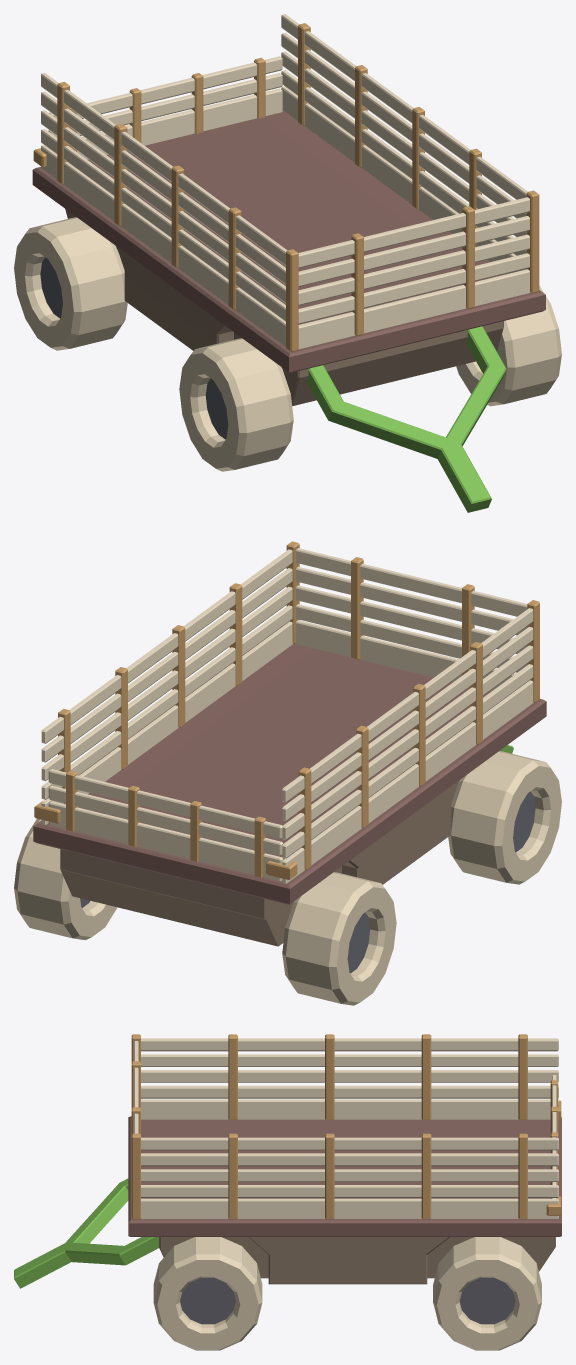
The model's file is farmwagon_a01.gltf.
The picture shows the model from 3 angles, top to bottom: view 1: azimuth 30°, elevation 25°; view 2: azimuth 150°, elevation 25°; view 3: azimuth 270°, elevation 25°; orthographic projection. The views are drawn at different scales.
Visible parts, largest first — view 1: body, wheel_11, wheel_15, wheel_3, wheel_7, wheel_13; view 2: body, wheel_15, wheel_11, wheel_9, wheel_3, wheel_7; view 3: body, wheel_8, wheel_12, wheel_0, wheel_4.
Boxes of the visible parts, left/top/right/bottom form: body: left=25, top=14, right=561, bottom=512; wheel_11: left=14, top=232, right=73, bottom=347; wheel_15: left=179, top=353, right=239, bottom=468; wheel_3: left=40, top=257, right=62, bottom=318; wheel_7: left=205, top=378, right=228, bottom=439; wheel_13: left=456, top=335, right=507, bottom=402; body: left=14, top=541, right=550, bottom=1005; wheel_15: left=502, top=766, right=561, bottom=881; wheel_11: left=336, top=887, right=396, bottom=1002; wheel_9: left=68, top=891, right=117, bottom=937; wheel_3: left=347, top=912, right=370, bottom=973; wheel_7: left=513, top=791, right=535, bottom=852; body: left=14, top=1034, right=561, bottom=1350; wheel_8: left=437, top=1260, right=538, bottom=1349; wheel_12: left=157, top=1260, right=258, bottom=1349; wheel_0: left=459, top=1277, right=515, bottom=1324; wheel_4: left=180, top=1277, right=235, bottom=1324.
Size of the model in its own units: 2.51 by 1.77 by 4.37.
1 material, 1 textured.
